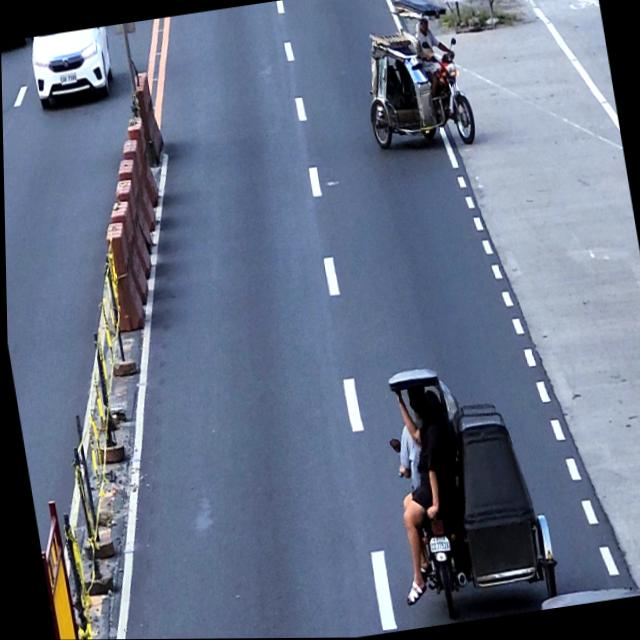Car: (27, 26, 118, 112)
License-Plate: (426, 534, 448, 555), (58, 71, 78, 86)
Tricycle: (377, 349, 561, 626), (353, 0, 478, 160)
